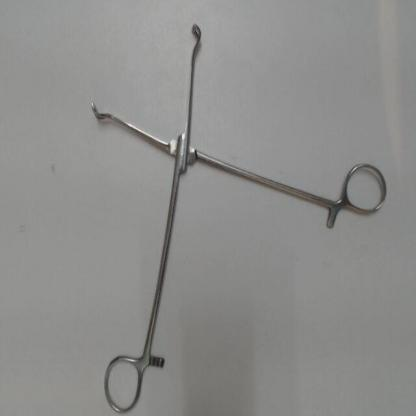8 Babcock Tissue Forceps: (89, 14, 391, 414)
